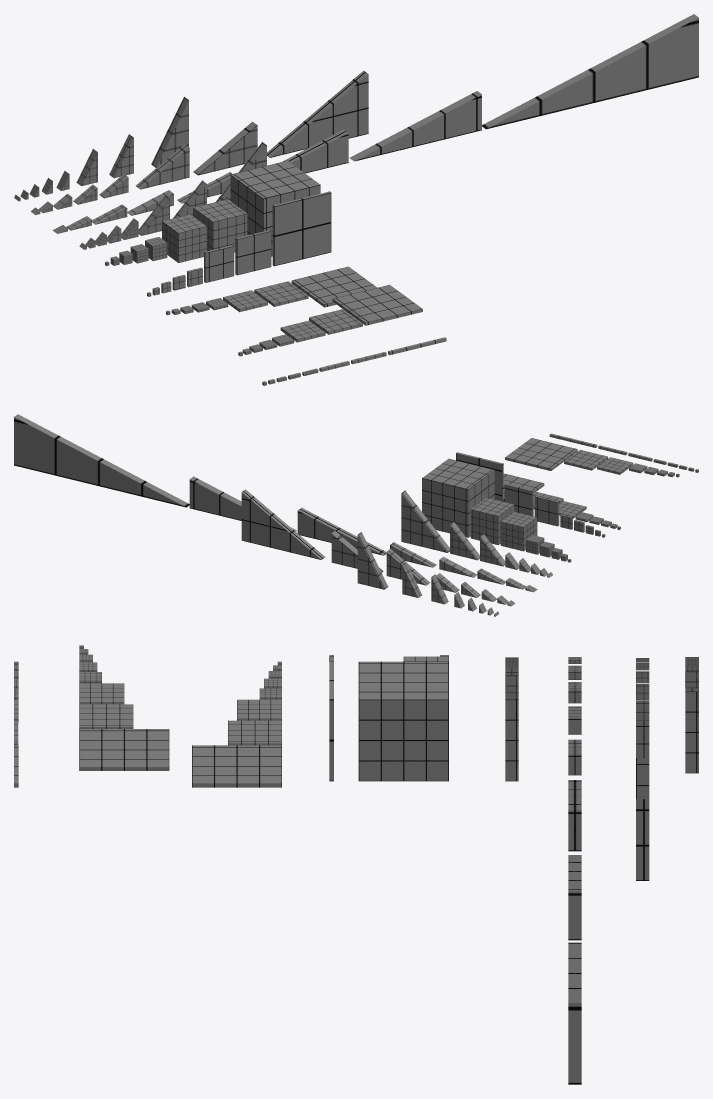
File: Level_Toolkit_Geo_v04.fbx
3 renders of one model, top to bottom at view 1: azimuth 30°, elevation 25°; view 2: azimuth 150°, elevation 25°; view 3: azimuth 270°, elevation 25°, orthographic. The views are drawn at different scales.
Parts seen in each view (by area): view 1: Ramp_15, Cube, Ramp_30, Wall_20x20, Ramp_60, Ramp_45, Ceiling_20x20, Floor_20x20, Wall_12x12, Wall_10x10, Rail, Floor_12x12 (+3 smaller); view 2: Ramp_15, Cube, Ramp_30, Ramp_45, Ramp_60, Ceiling_20x20, Wall_12x12, Wall_20x20, Wall_10x10, Rail, Ceiling_12x12, Floor_20x20 (+1 smaller); view 3: Cube, Ramp_15, Floor_20x20, Ceiling_20x20, Ramp_30, Ramp_45, Ramp_60, Floor_12x12, Ceiling_12x12, Ceiling_10x10, Floor_10x10.
Part boxes in pixels (x1,y1,x2,y2): Ramp_15: (52,14,698,233); Cube: (105,160,320,265); Ramp_30: (31,70,368,214); Wall_20x20: (272,191,331,266); Ramp_60: (14,97,188,201); Ramp_45: (79,142,266,249); Ceiling_20x20: (332,285,422,325); Floor_20x20: (291,266,377,307); Wall_12x12: (235,230,271,275); Wall_10x10: (204,245,234,282); Rail: (262,337,446,385); Floor_12x12: (254,281,308,306); Ramp_15: (14,414,537,592); Cube: (422,458,571,562); Ramp_30: (241,489,515,606); Ramp_45: (401,490,552,577); Ramp_60: (357,532,499,616); Ceiling_20x20: (505,438,577,470); Wall_12x12: (504,483,533,516); Wall_20x20: (456,452,503,501); Wall_10x10: (534,495,559,526); Rail: (549,433,698,472); Ceiling_12x12: (564,450,607,470); Floor_20x20: (503,473,544,501); Cube: (358,655,448,781); Ramp_15: (568,657,581,1084); Floor_20x20: (192,745,281,787); Ceiling_20x20: (79,729,169,770); Ramp_30: (636,658,649,880); Ramp_45: (505,657,518,781); Ramp_60: (685,657,698,773); Floor_12x12: (228,720,281,745); Ceiling_12x12: (79,704,133,728); Ceiling_10x10: (79,683,124,704); Floor_10x10: (237,699,281,720).
Size of the model in its own units: 22469 by 2150 by 15200.
